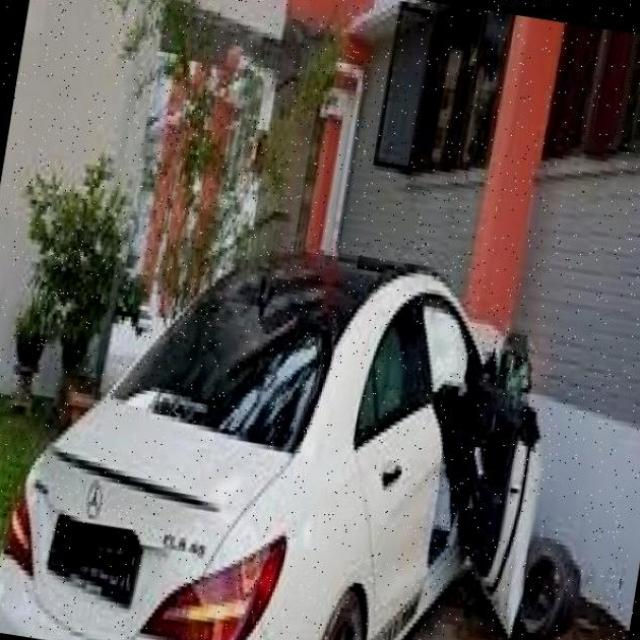accident: (354, 247, 621, 640)
